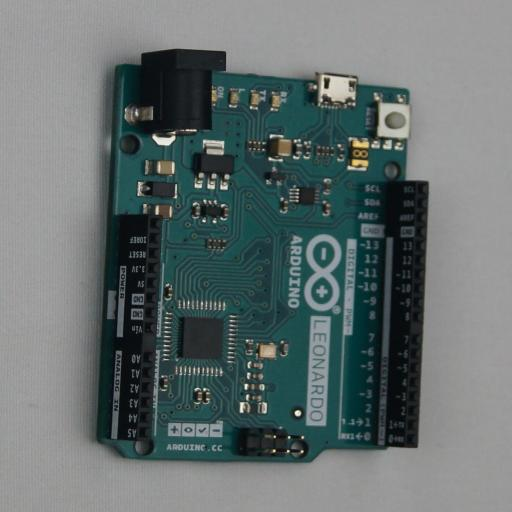Arduino Leonardo: (86, 48, 428, 463)
